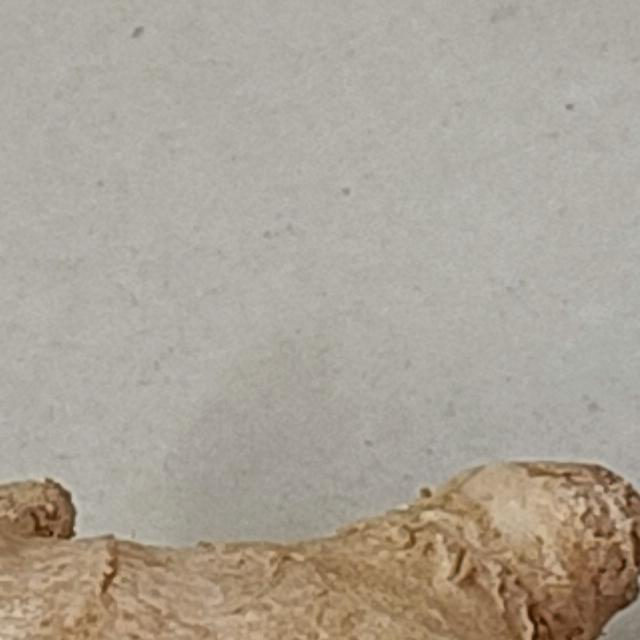ginger: (0, 432, 640, 640)
